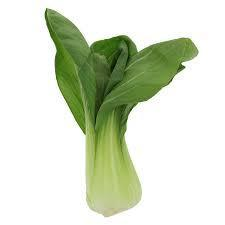Healthy-Pechay: (28, 16, 185, 211)
